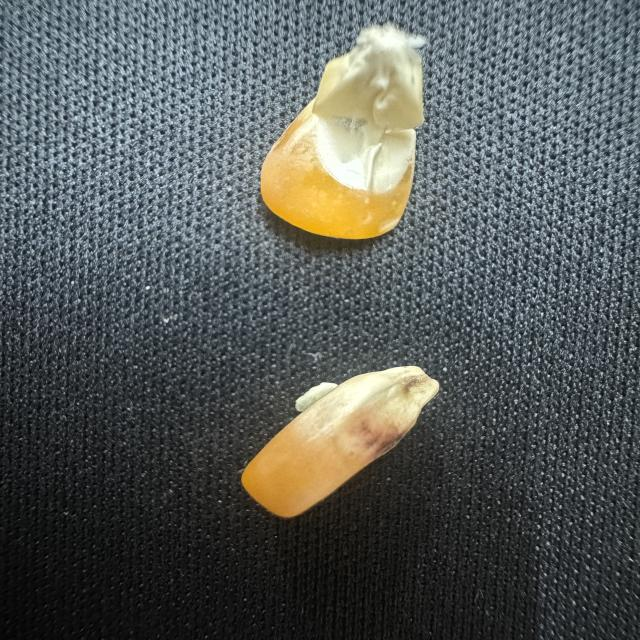Bad-Seed: (252, 21, 453, 245), (230, 359, 440, 525)
